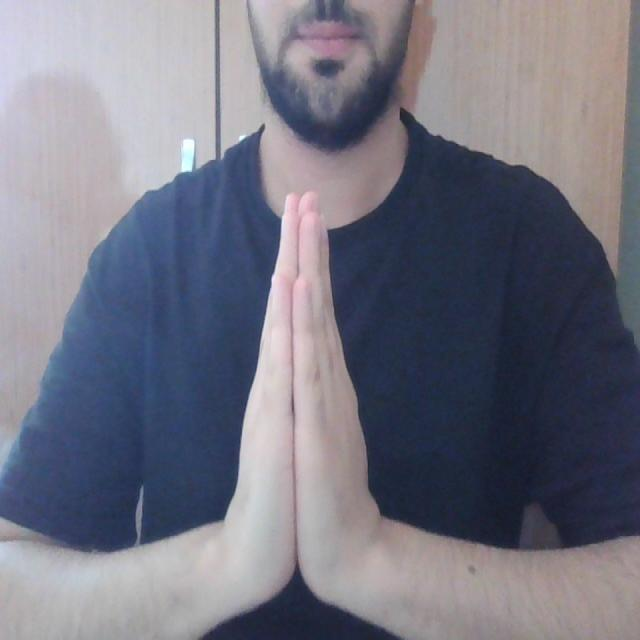Ozur-Dilemek: (217, 173, 395, 625)
